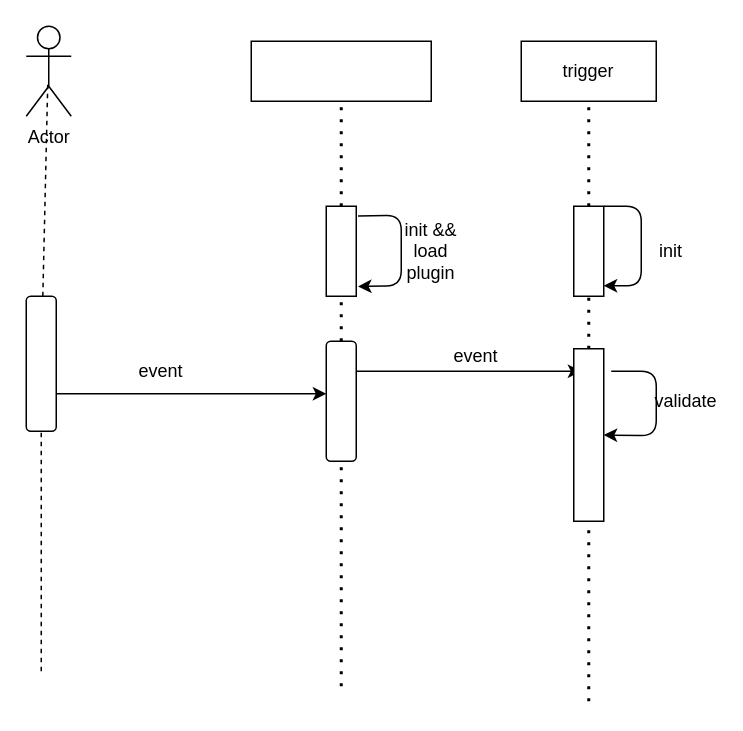
Some shapes in this 743 by 731 pixel diagram are drawn without their labels. Here are the shapes that lost their labels. From the top down, the centre of each, then its label:
At (x=340, y=70): "gitee hook".
At (x=340, y=400): "dispatch".
